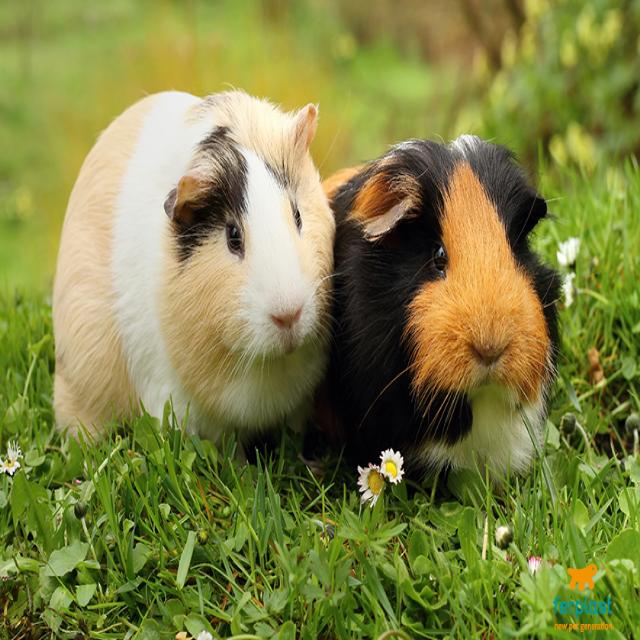guinea pig: (53, 89, 331, 457), (326, 135, 562, 477)
